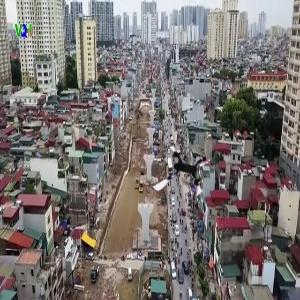drone: (149, 143, 212, 206)
